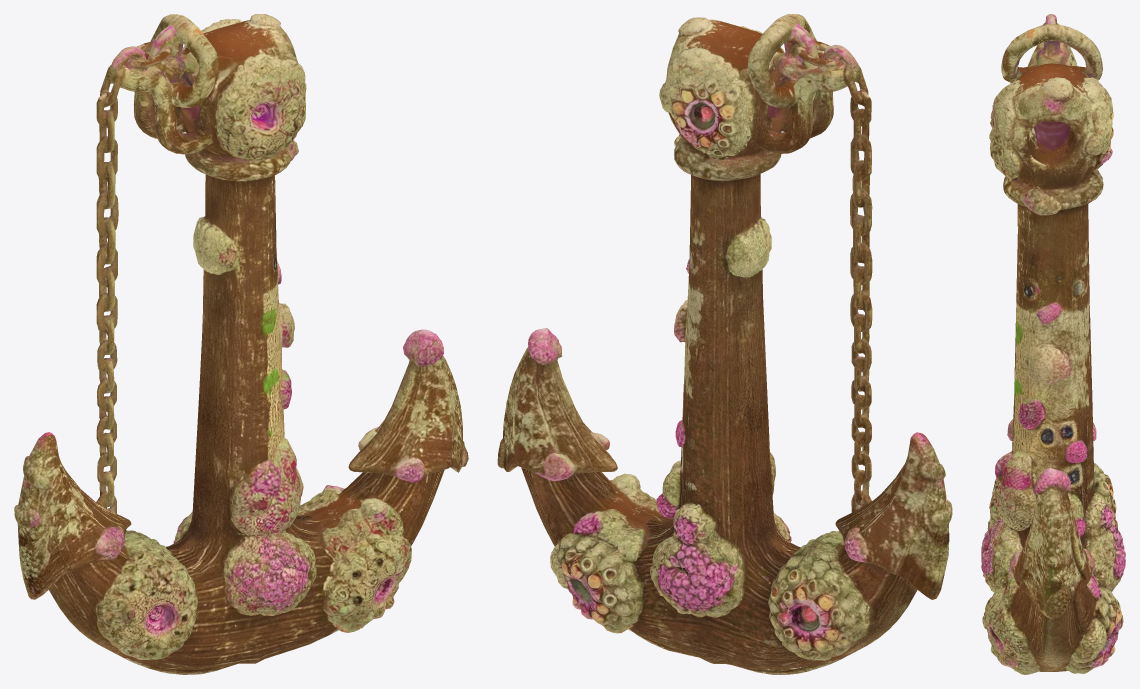
Rendered from photorealistic_coral_0.glb.
The picture shows the model from 3 angles, left to right: view 1: azimuth 30°, elevation 25°; view 2: azimuth 150°, elevation 25°; view 3: azimuth 270°, elevation 25°; orthographic projection. The views are drawn at different scales.
Visible parts, largest first — view 1: Mesh1.0; view 2: Mesh1.0; view 3: Mesh1.0.
Boxes of the visible parts, x1,y1,x2,y2 form: Mesh1.0: [14, 14, 468, 674]; Mesh1.0: [497, 14, 952, 674]; Mesh1.0: [981, 14, 1125, 674].
Size of the model in its own units: 1.37 by 1.91 by 0.4208.
1 material, 1 textured.
